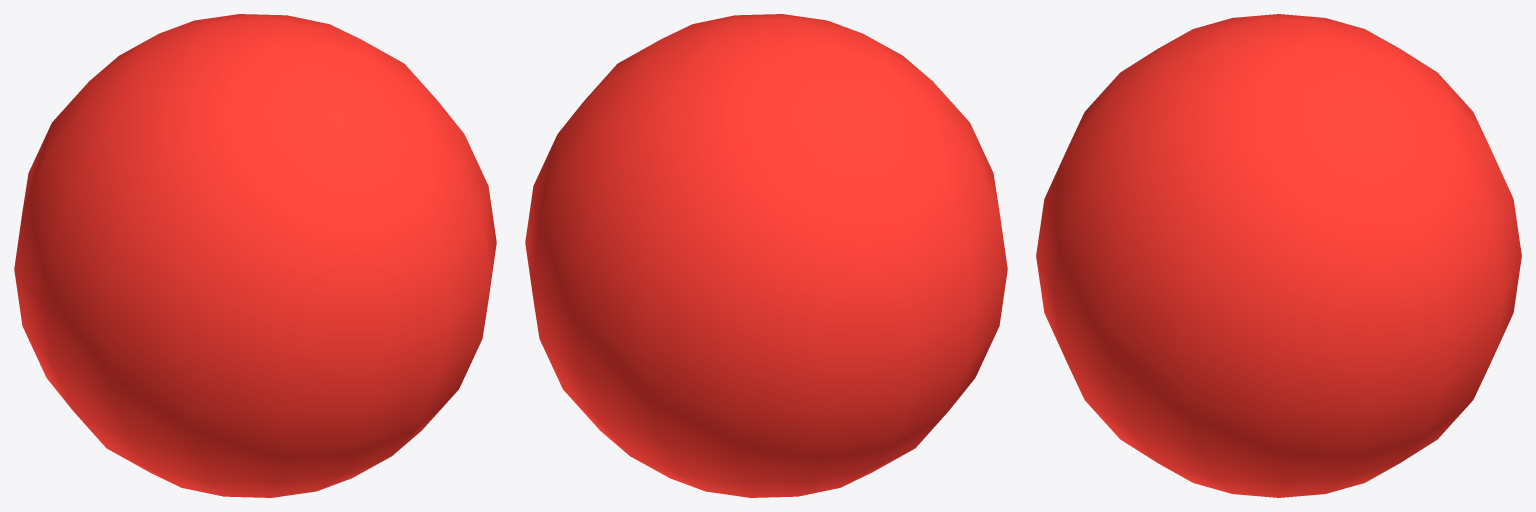
File: Candy_05.glb
3 views of the same model, side by side, from view 1: azimuth 30°, elevation 25°; view 2: azimuth 150°, elevation 25°; view 3: azimuth 270°, elevation 25° (orthographic).
Parts seen in each view (by area): view 1: Candy_05; view 2: Candy_05; view 3: Candy_05.
Part boxes in pixels (x1=…): Candy_05: x1=14, y1=14, x2=496, y2=497; Candy_05: x1=525, y1=14, x2=1007, y2=497; Candy_05: x1=1036, y1=14, x2=1521, y2=497.
Bounding box in the file's own units: 1.22 × 1.22 × 1.22.
Materials: 1 (1 with a texture image).
